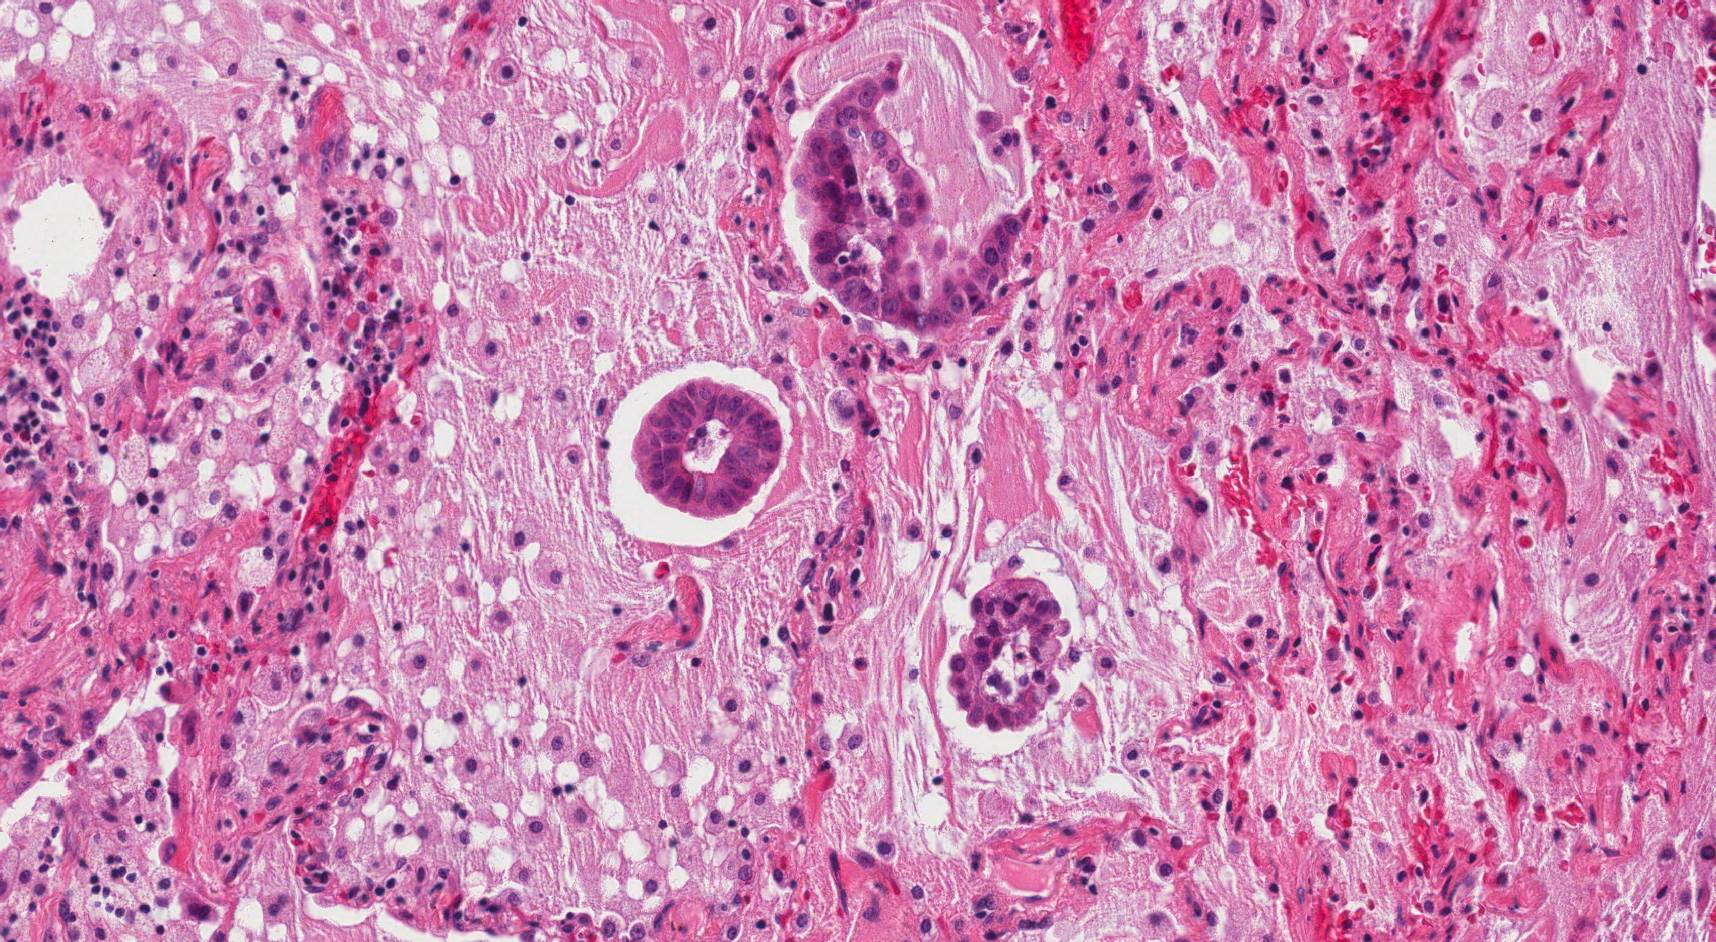stas: (790, 50, 1030, 335), (632, 378, 783, 521), (950, 573, 1068, 735)
